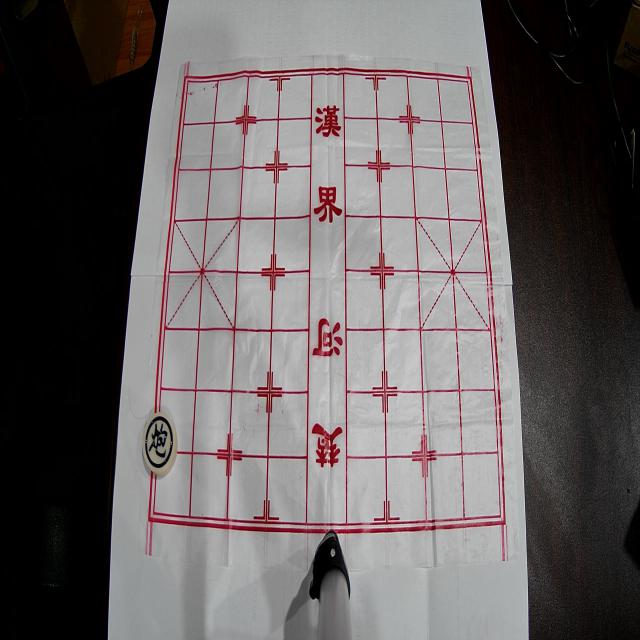black-cannon: (143, 412, 177, 476)
